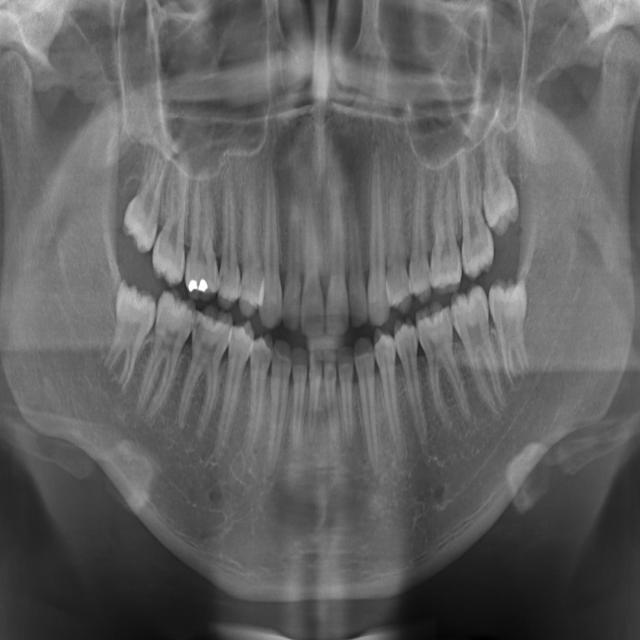AmalgamRestoration: (188, 277, 208, 297)
DentalCaries: (472, 241, 482, 267), (181, 311, 193, 332), (193, 318, 202, 345), (427, 261, 438, 281), (219, 271, 229, 291), (448, 307, 459, 325)
